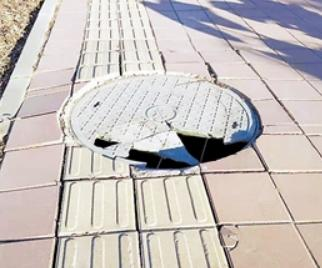wellcover: (51, 60, 276, 174)
